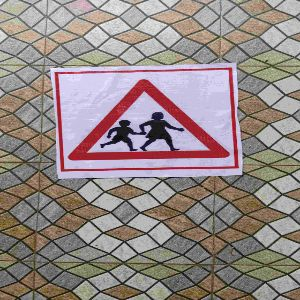schools: (62, 77, 235, 170)
